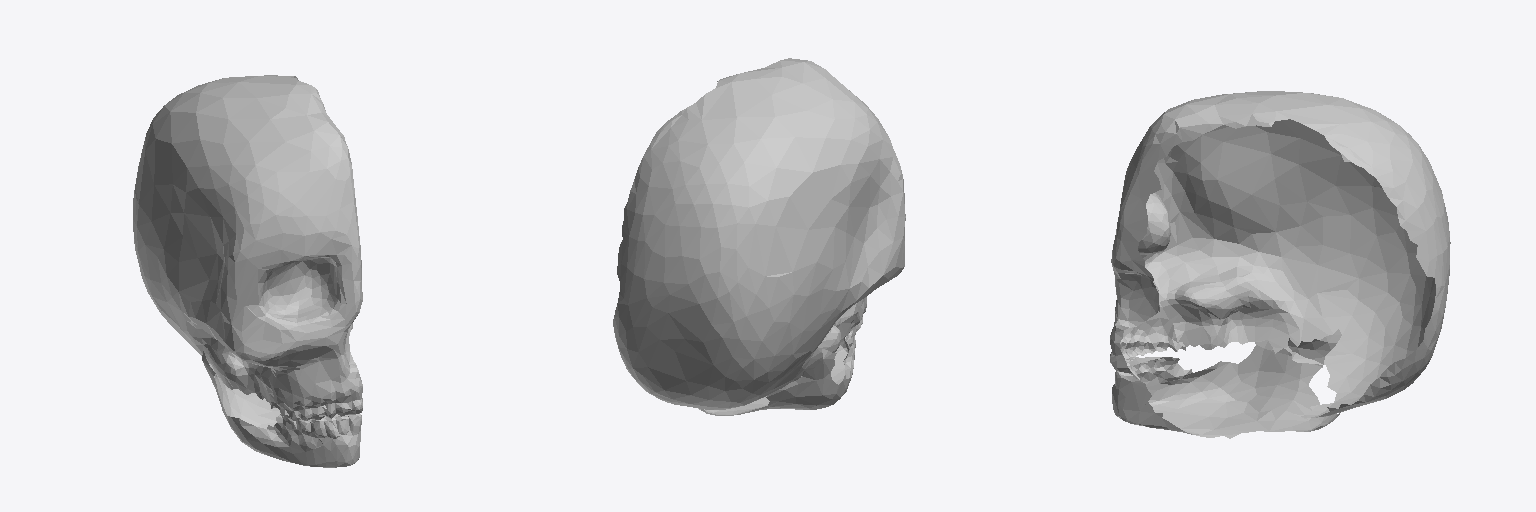
File: skullleft.obj
3 views of the same model, side by side, from view 1: azimuth 30°, elevation 25°; view 2: azimuth 150°, elevation 25°; view 3: azimuth 270°, elevation 25° (orthographic).
Visible parts, largest first — view 1: whiteskull; view 2: whiteskull; view 3: whiteskull.
Part boxes in pixels (left/top/right/bottom): whiteskull: left=133, top=75, right=362, bottom=467; whiteskull: left=613, top=58, right=905, bottom=415; whiteskull: left=1110, top=91, right=1450, bottom=438.
Size of the model in its own units: 1.9 by 3.49 by 3.29.